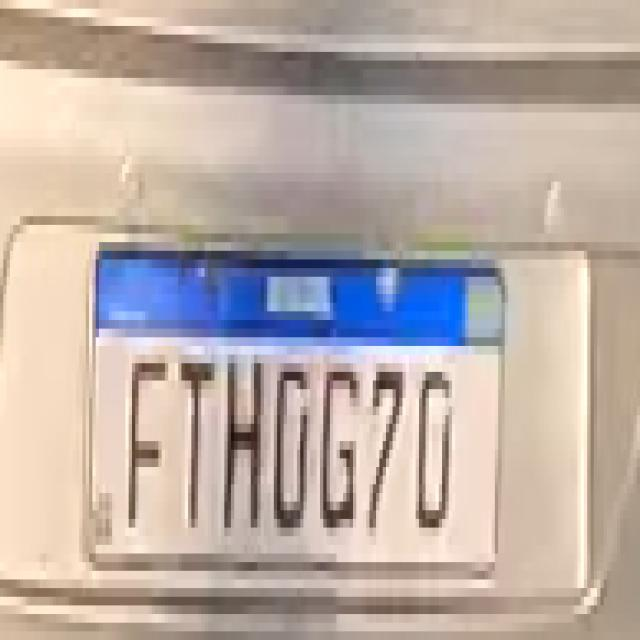Placa_mercosul_carro: (84, 239, 506, 576)
